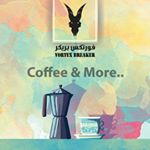cups: (72, 113, 108, 139)
